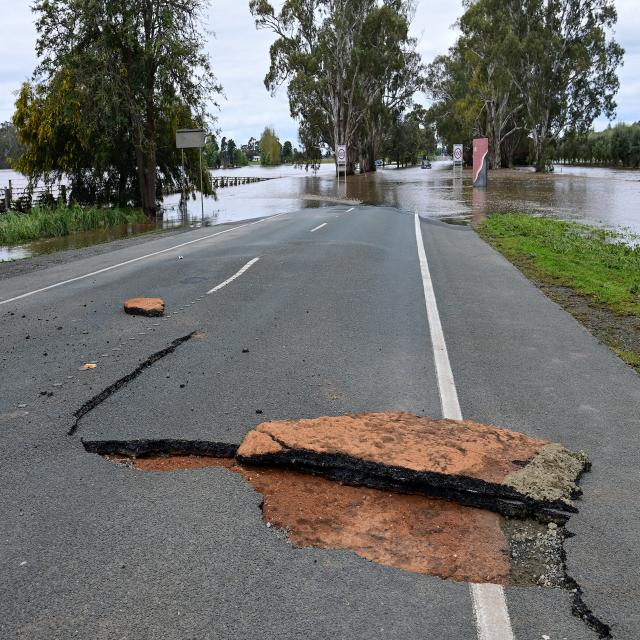Pothole: (87, 412, 589, 597)
